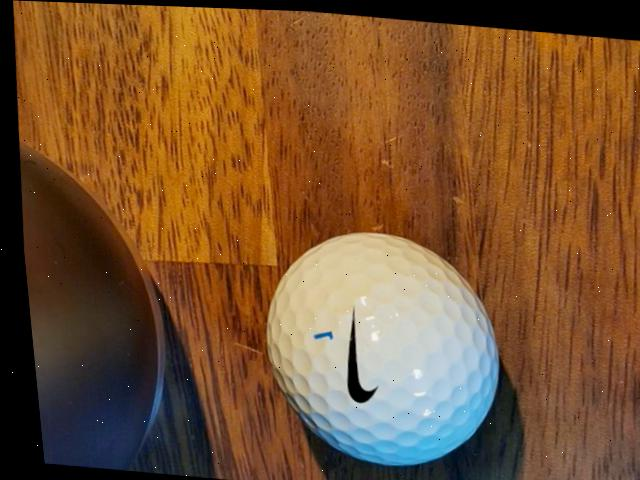Ball: (245, 218, 509, 472)
Nike: (333, 300, 377, 402)
